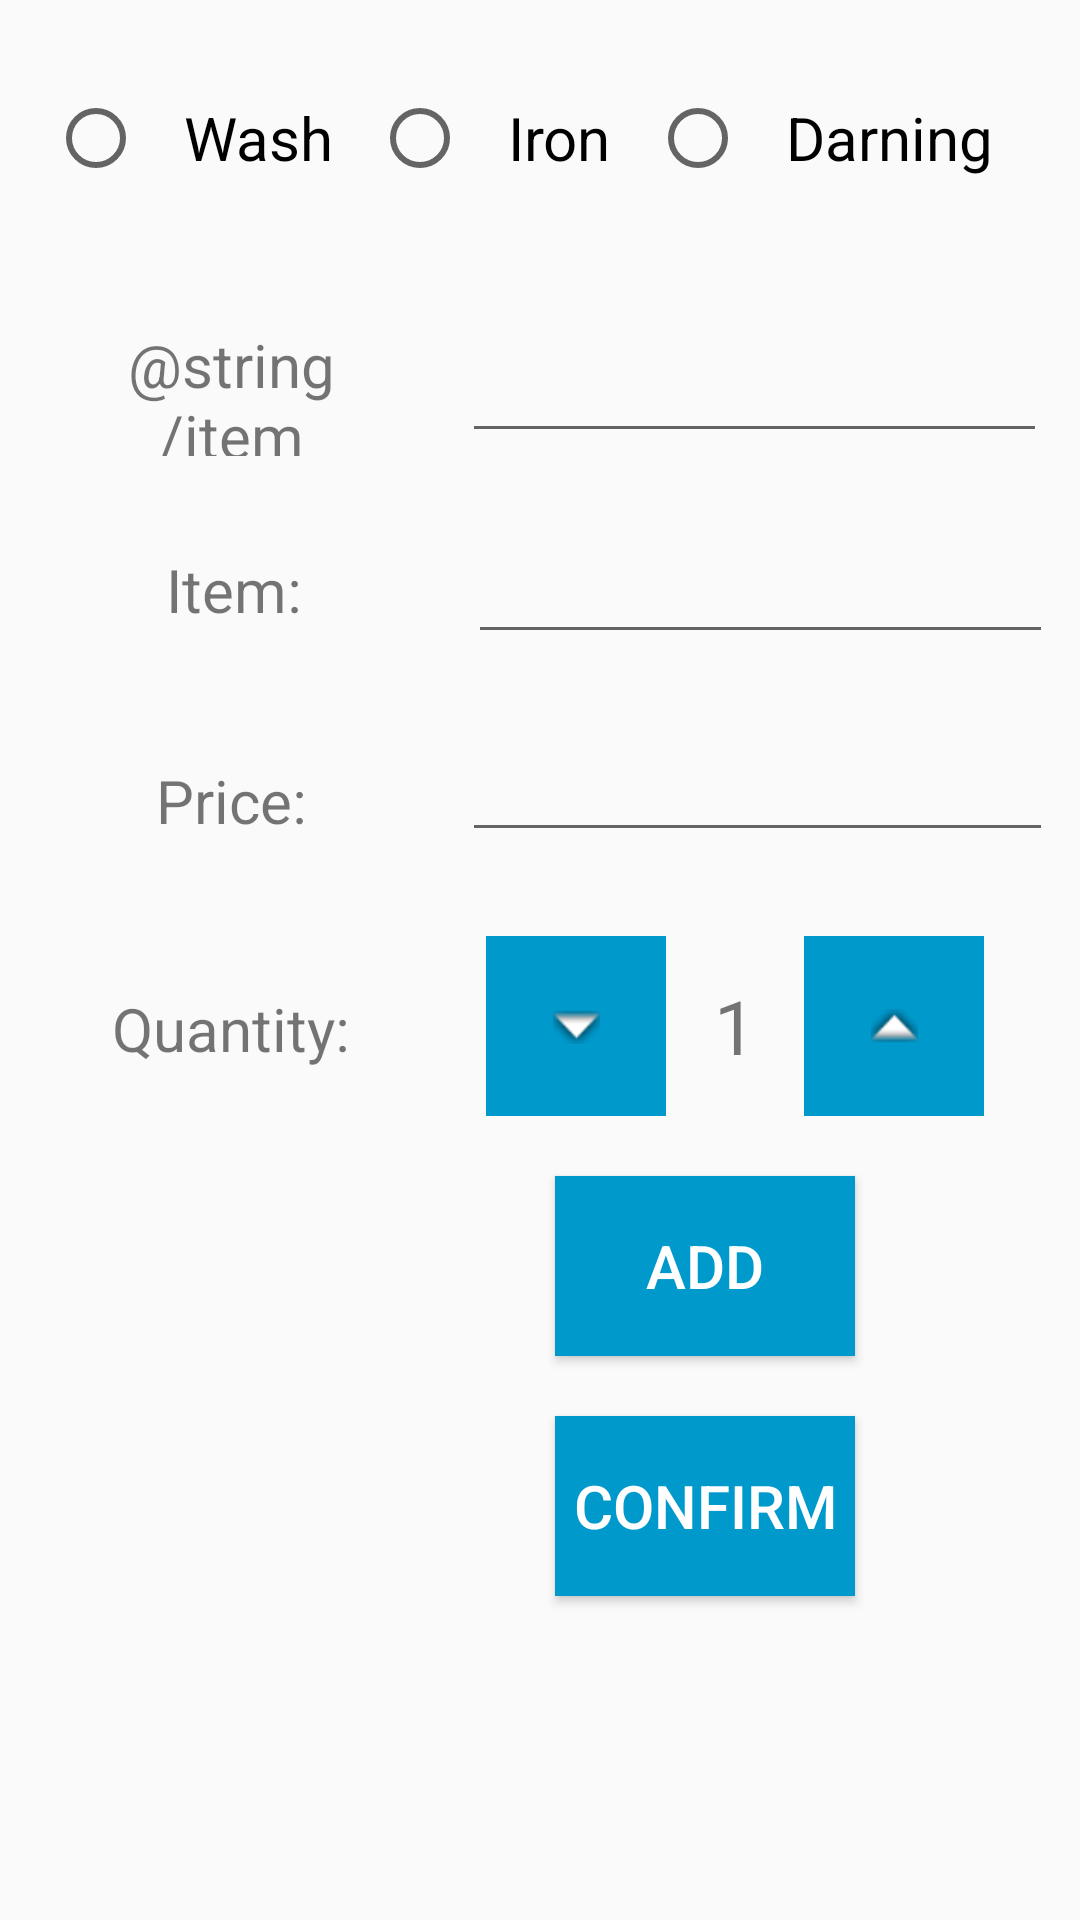

Where to tap for icons on this 1080 × 1920 app screen, as (x=x, y=y):
arrow down float: (x=576, y=1026)
arrow up float: (x=894, y=1026)
